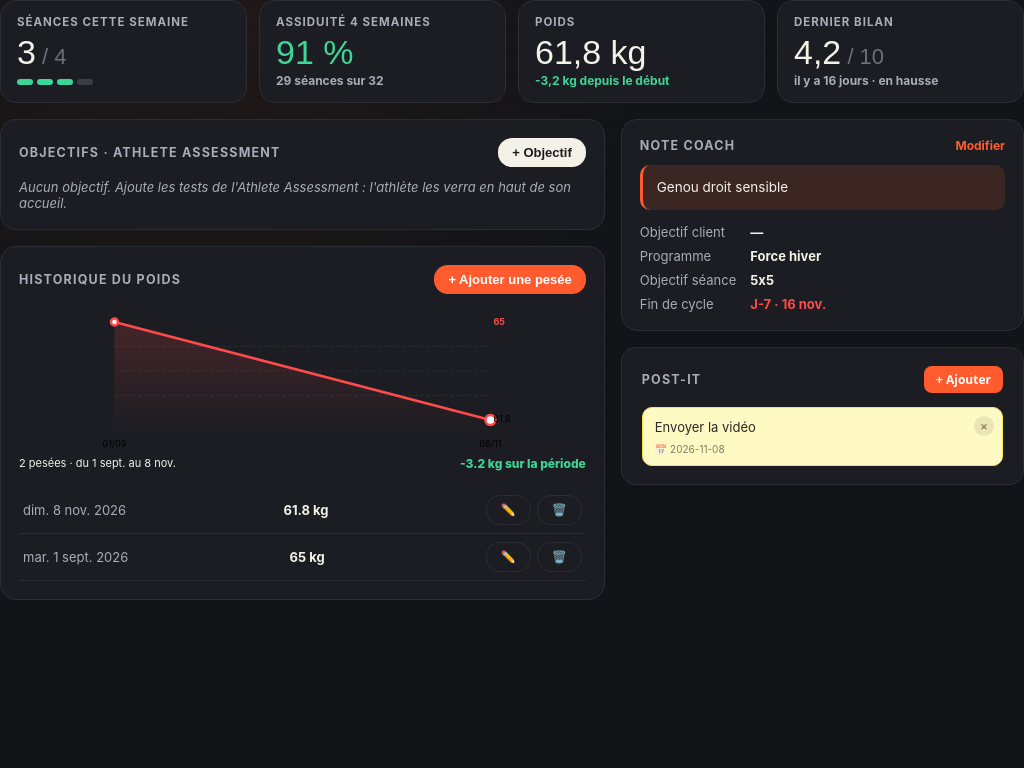
Scenario: fiche client : chiffres clés, note coach, post-it
The image size is (1024, 768).
Expected: the text "91 %" is shown, [276,33,354,71]
Expected: the text "29 séances sur 32" is shown, [276,73,384,88]
Click the button "Modifier" at (980, 145), box [956,138,1005,153]
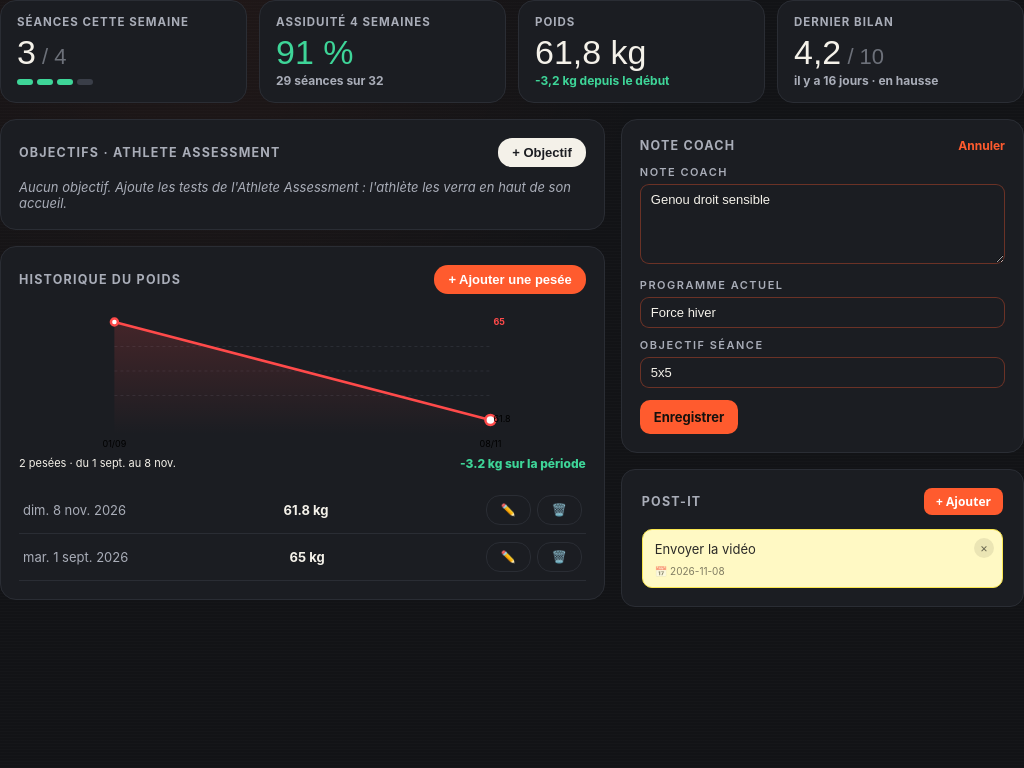
Now the 1st field showing "Force hiver" is shown, box [640,297,1005,328]
